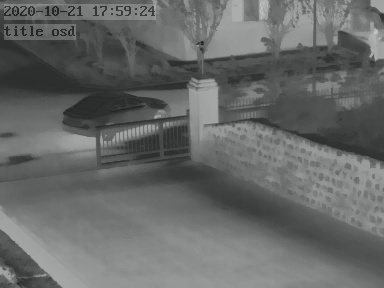vehicle: (60, 88, 174, 137)
